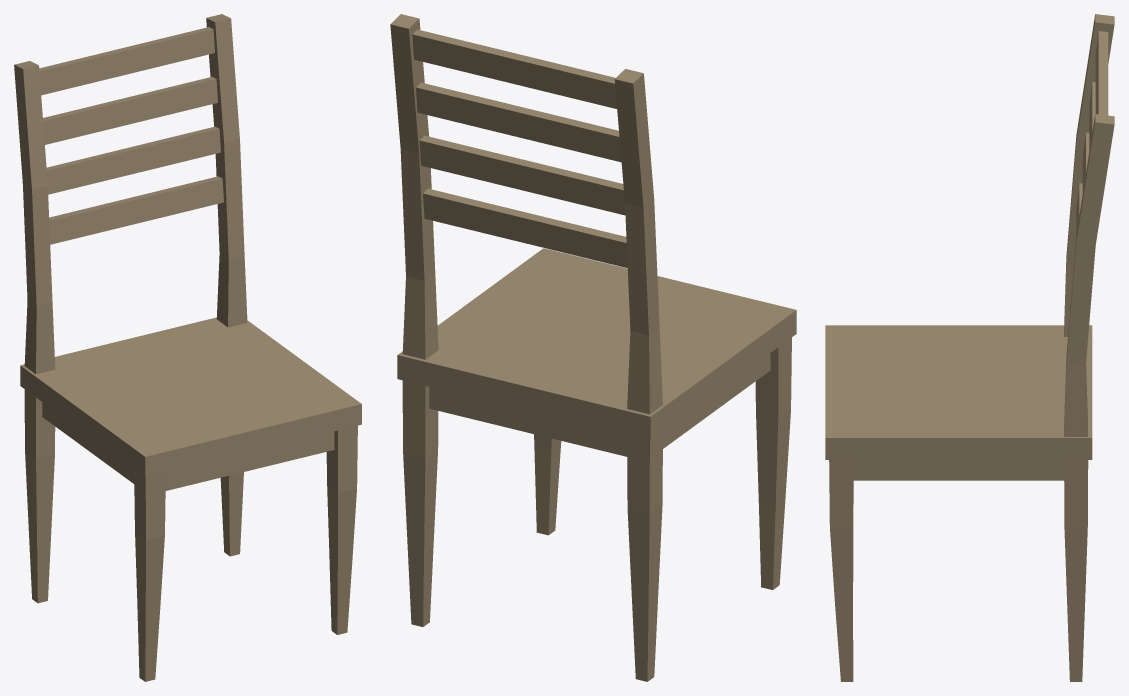
The model's file is chair.glb.
3 views of the same model, side by side, from view 1: azimuth 30°, elevation 25°; view 2: azimuth 150°, elevation 25°; view 3: azimuth 270°, elevation 25° (orthographic). The views are drawn at different scales.
Parts seen in each view (by area): view 1: Chair_1; view 2: Chair_1; view 3: Chair_1.
Boxes of the visible parts, left/top/right/bottom form: Chair_1: left=14, top=14, right=361, bottom=681; Chair_1: left=390, top=14, right=796, bottom=681; Chair_1: left=825, top=14, right=1114, bottom=681.
Bounding box in the file's own units: 0.7616 × 1.77 × 0.8255.
